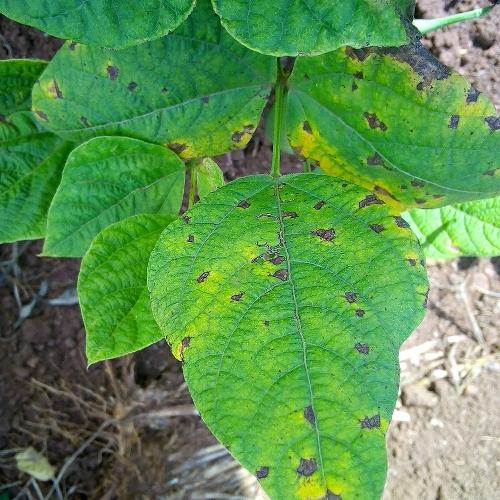mozaik: (165, 175, 414, 499), (70, 14, 294, 188), (296, 58, 500, 196)
